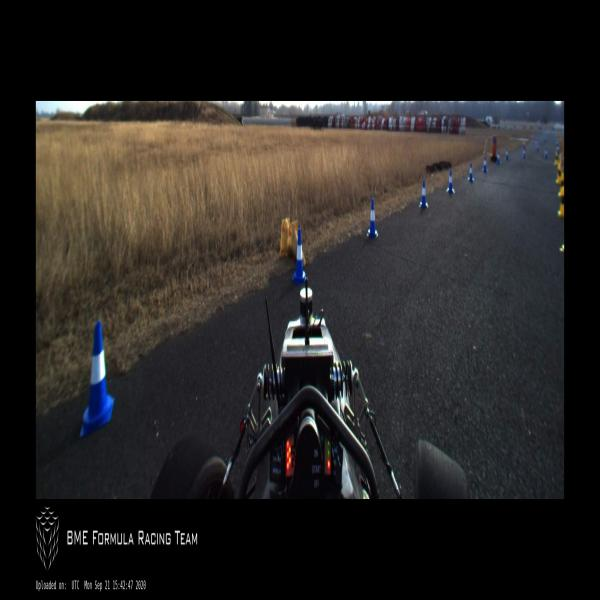blue_cone: (80, 321, 114, 438), (292, 227, 308, 284), (366, 198, 378, 238), (420, 179, 428, 208), (446, 170, 455, 193), (468, 163, 474, 182), (482, 156, 488, 172), (497, 151, 501, 164), (522, 146, 526, 159), (544, 146, 548, 159), (536, 142, 539, 152), (506, 148, 508, 160)
yellow_cone: (558, 186, 564, 216), (558, 172, 564, 197), (556, 162, 562, 184), (554, 151, 558, 165)
